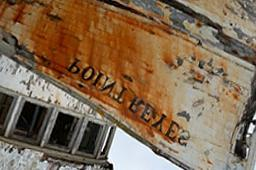rust: (16, 1, 170, 140)
